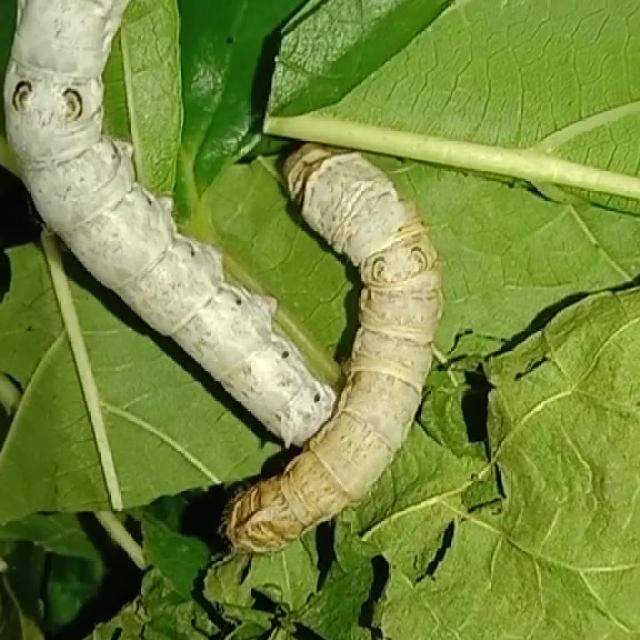Grasserie: (200, 113, 462, 567)
